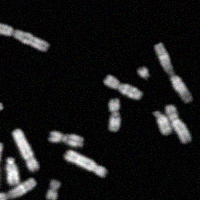chromosome: (155, 43, 191, 102), (0, 21, 47, 52), (12, 127, 39, 172), (64, 150, 107, 177), (166, 102, 191, 144), (104, 74, 142, 101), (0, 178, 37, 200), (48, 130, 83, 147), (153, 111, 170, 138), (109, 98, 121, 132), (6, 157, 19, 187), (47, 177, 61, 200), (137, 66, 150, 80), (0, 141, 3, 189), (0, 100, 3, 111)
